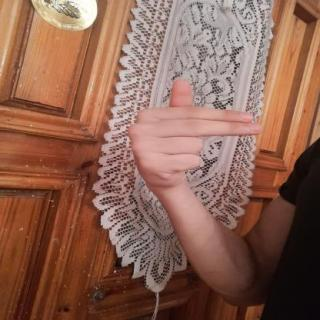GHAYN: (118, 76, 276, 196)
